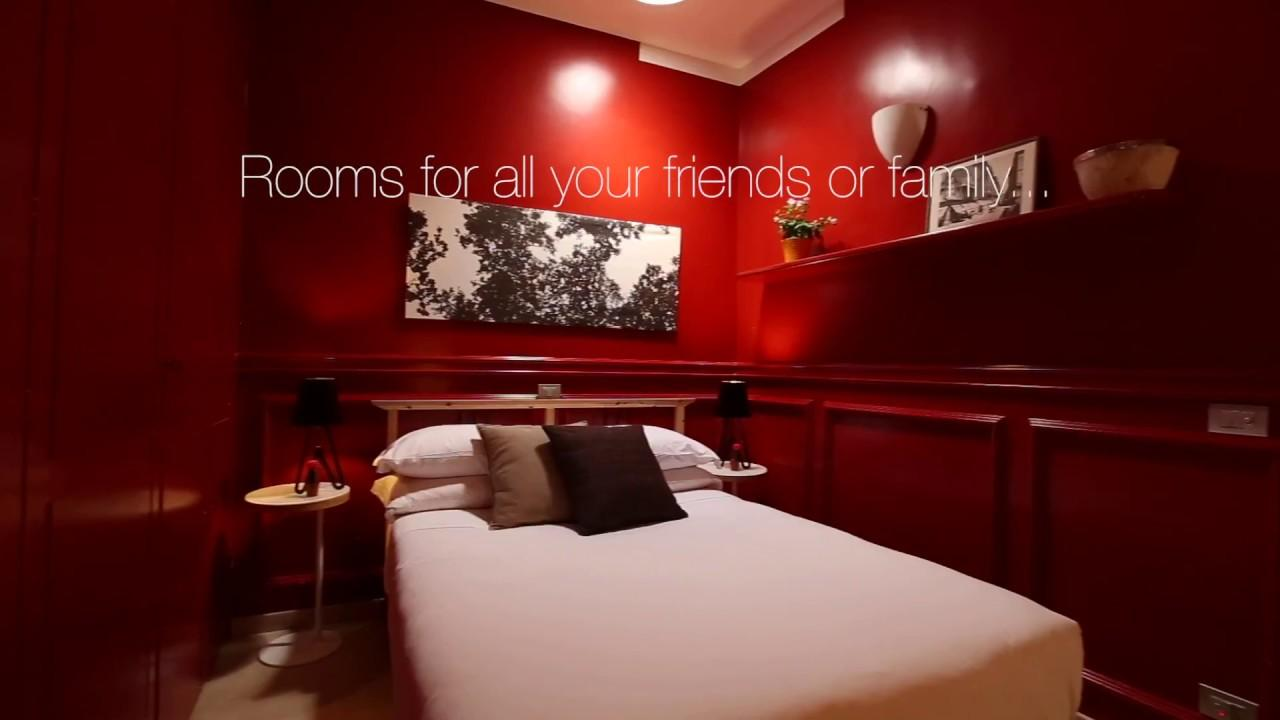bed: (375, 418, 927, 720)
